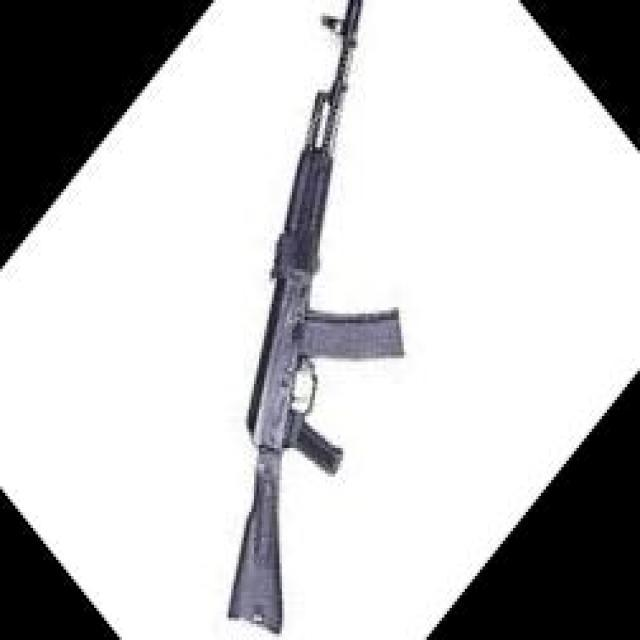weapon: (227, 1, 406, 637)
